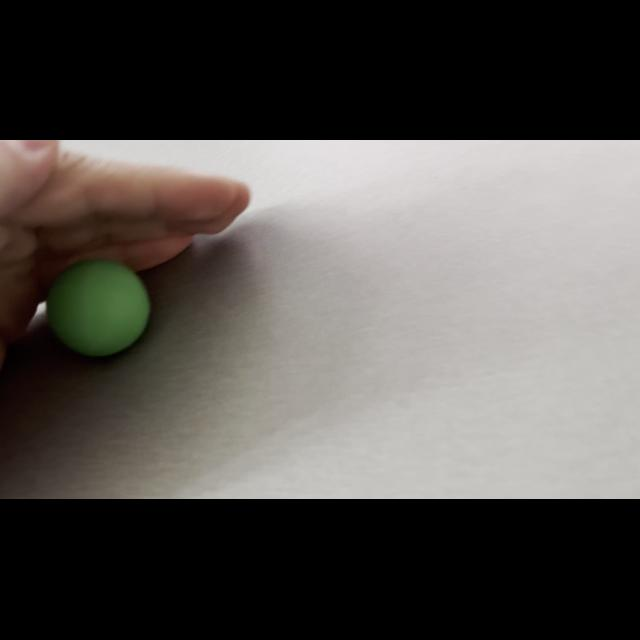objects: (41, 253, 157, 363)
